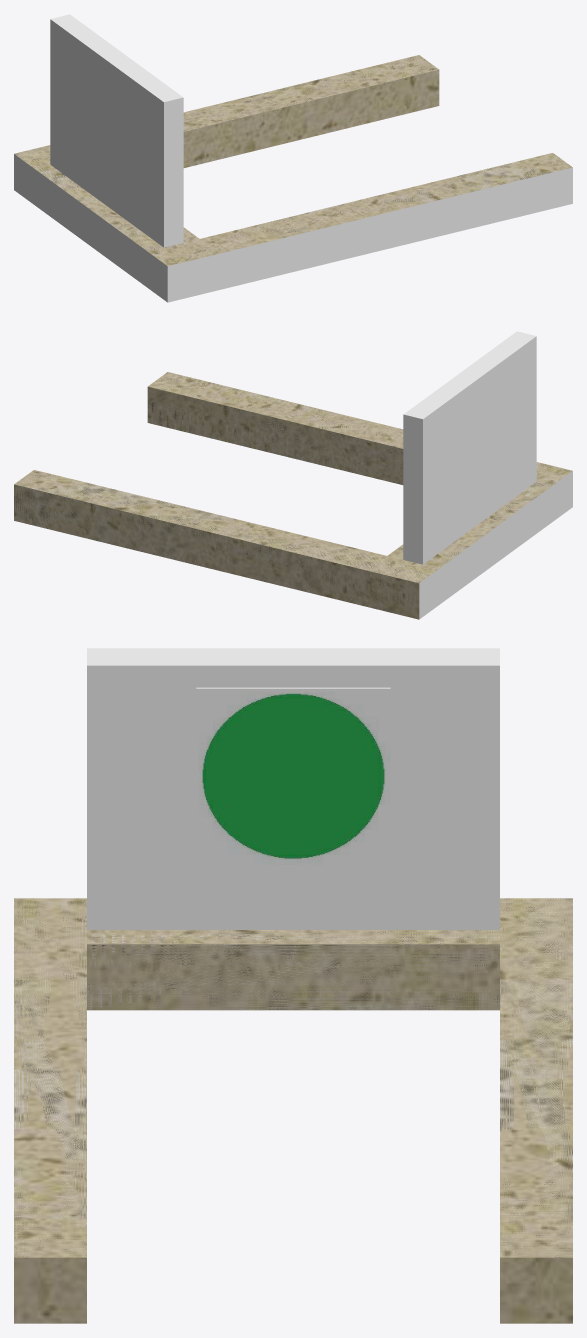
Rendered from dock_gate_green_circle.dae.
3 renders of one model, top to bottom at view 1: azimuth 30°, elevation 25°; view 2: azimuth 150°, elevation 25°; view 3: azimuth 270°, elevation 25°, orthographic. The views are drawn at different scales.
Visible parts, largest first — view 1: Component (×4); view 2: Component (×3); view 3: Component (×4).
Part boxes in pixels (bbox=[...]): Component (×4): bbox=[14, 14, 572, 302]; Component (×3): bbox=[14, 331, 572, 619]; Component (×4): bbox=[14, 648, 572, 1323].
Size of the model in its own units: 80.75 by 53.06 by 34.61.
4 materials, 3 textured.
